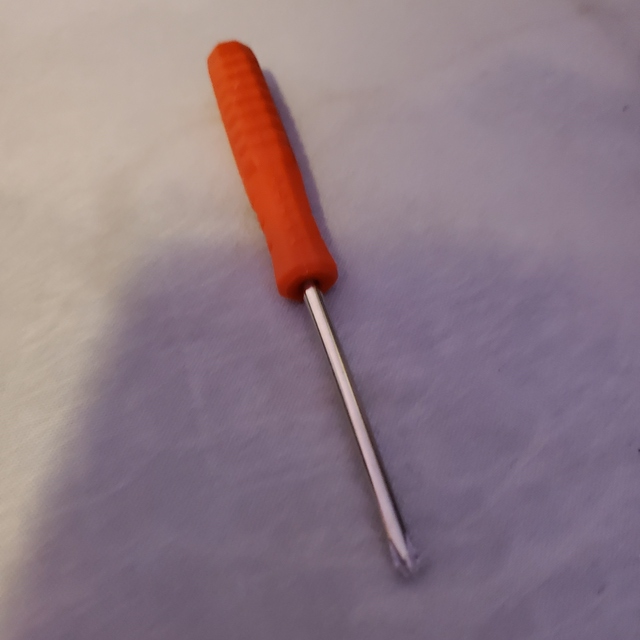screwdriver: (201, 33, 446, 600)
